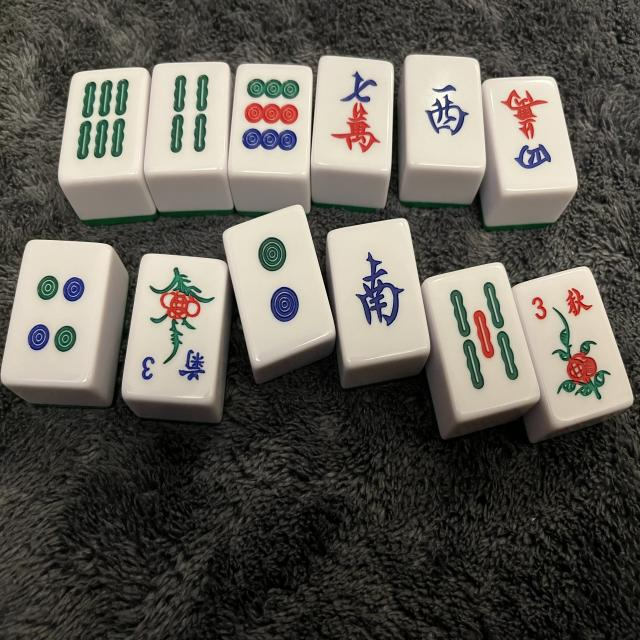f3: (125, 253, 230, 402)
ff3: (512, 265, 635, 428)
m4: (488, 80, 580, 193)
m7: (312, 59, 395, 173)
s4: (146, 62, 233, 170)
s5: (426, 264, 540, 421)
s6: (62, 69, 152, 178)
south: (325, 218, 429, 368)
t2: (224, 206, 339, 372)
t4: (0, 242, 111, 388)
t9: (229, 66, 314, 175)
west: (404, 56, 484, 168)
